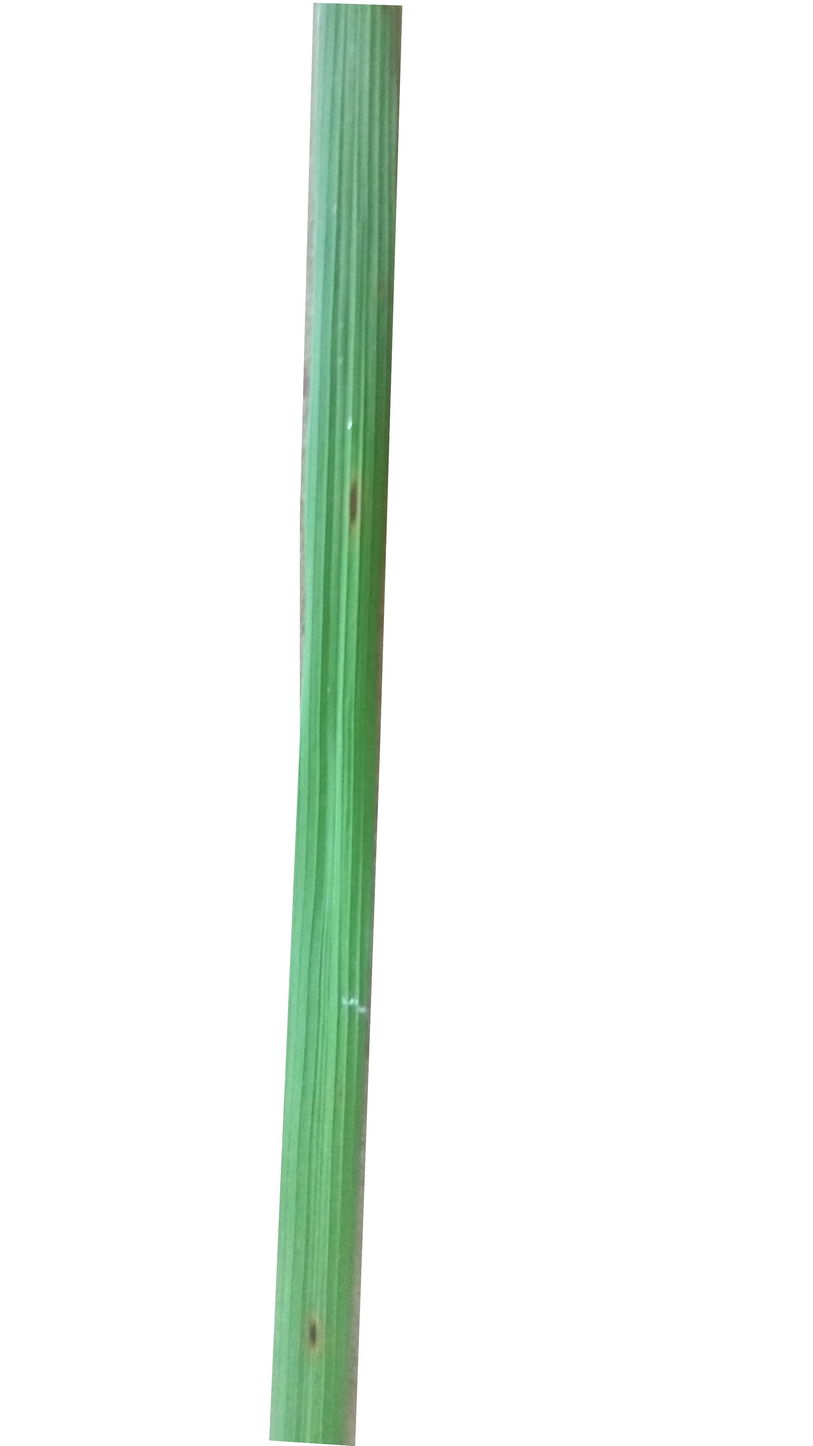Brown spot: (337, 466, 379, 528)
